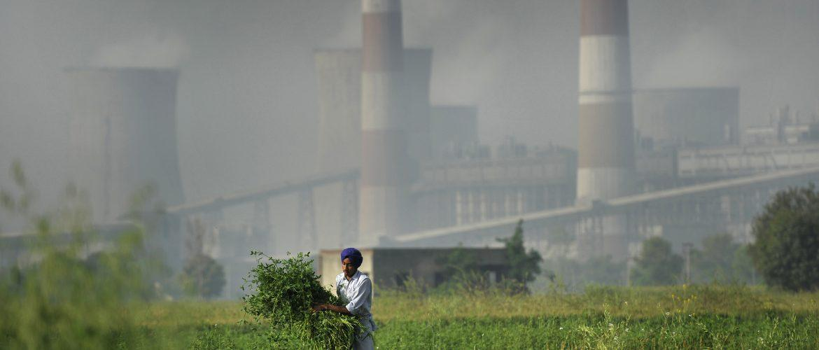backpack: (351, 316, 376, 350)
baseball glove: (335, 277, 348, 306)
bench: (306, 308, 356, 350), (310, 298, 354, 316)
boat: (776, 105, 812, 146)
car: (769, 109, 815, 145)
chair: (306, 308, 356, 350)
elephant: (306, 305, 357, 350)
handbag: (351, 304, 379, 339), (352, 316, 376, 350), (361, 315, 377, 338)
person: (266, 251, 382, 349), (242, 252, 338, 339), (305, 260, 366, 350), (333, 249, 377, 349), (303, 272, 345, 340), (305, 296, 356, 350)
potted plant: (240, 249, 322, 324), (301, 285, 357, 350), (309, 274, 336, 310)
truck: (776, 105, 813, 145), (780, 121, 819, 144)
